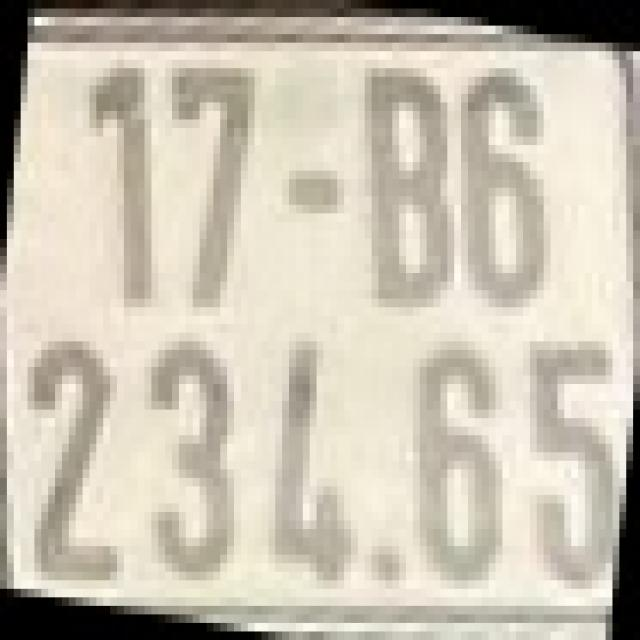1: (90, 68, 158, 307)
2: (21, 333, 124, 580)
3: (144, 333, 241, 580)
4: (268, 333, 351, 589)
5: (530, 341, 619, 589)
6: (461, 68, 551, 307), (413, 342, 502, 580)
7: (172, 60, 255, 307)
B: (358, 68, 461, 316)
